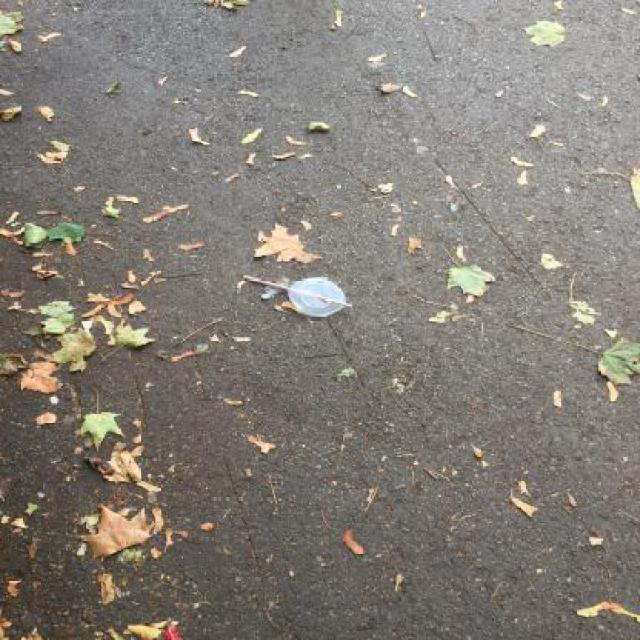plastic: (242, 274, 353, 318)
